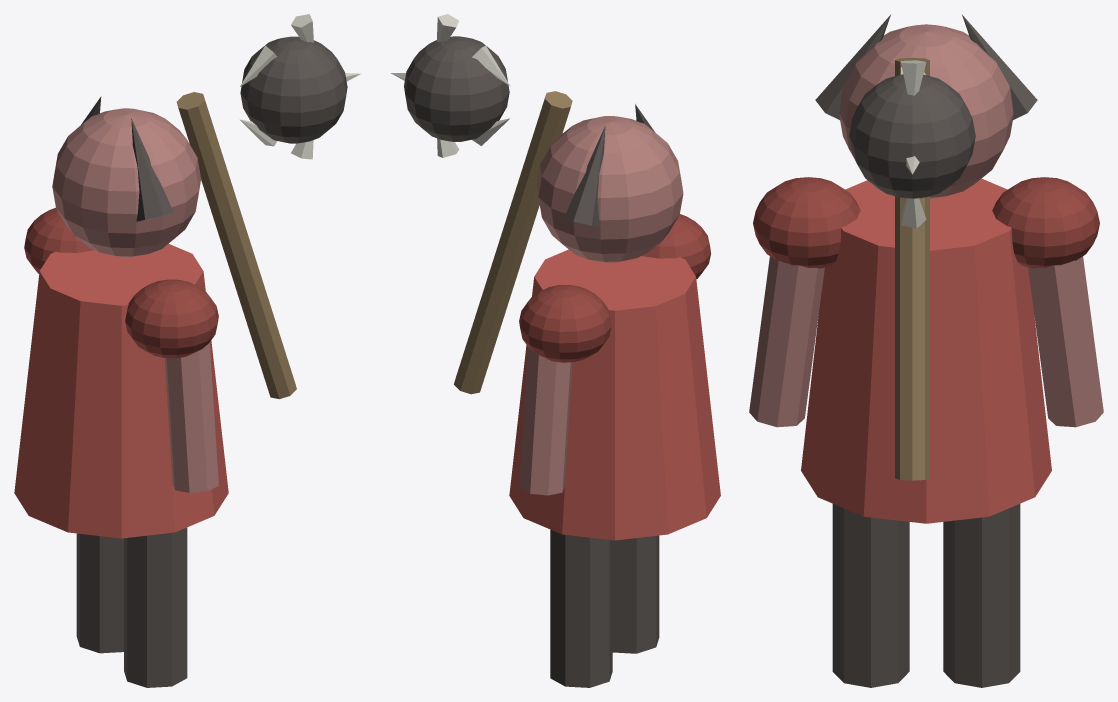
File: hero_horda_3.glb
3 renders of one model, left to right at view 1: azimuth 30°, elevation 25°; view 2: azimuth 150°, elevation 25°; view 3: azimuth 270°, elevation 25°, orthographic. The views are drawn at different scales.
Parts seen in each view (by area): view 1: figurka; view 2: figurka; view 3: figurka.
Part boxes in pixels (x1,y1,x2,y2): figurka: (14, 14, 360, 687); figurka: (390, 14, 720, 687); figurka: (749, 14, 1103, 687).
Size of the model in its own units: 0.6285 by 1.11 by 0.5044.
